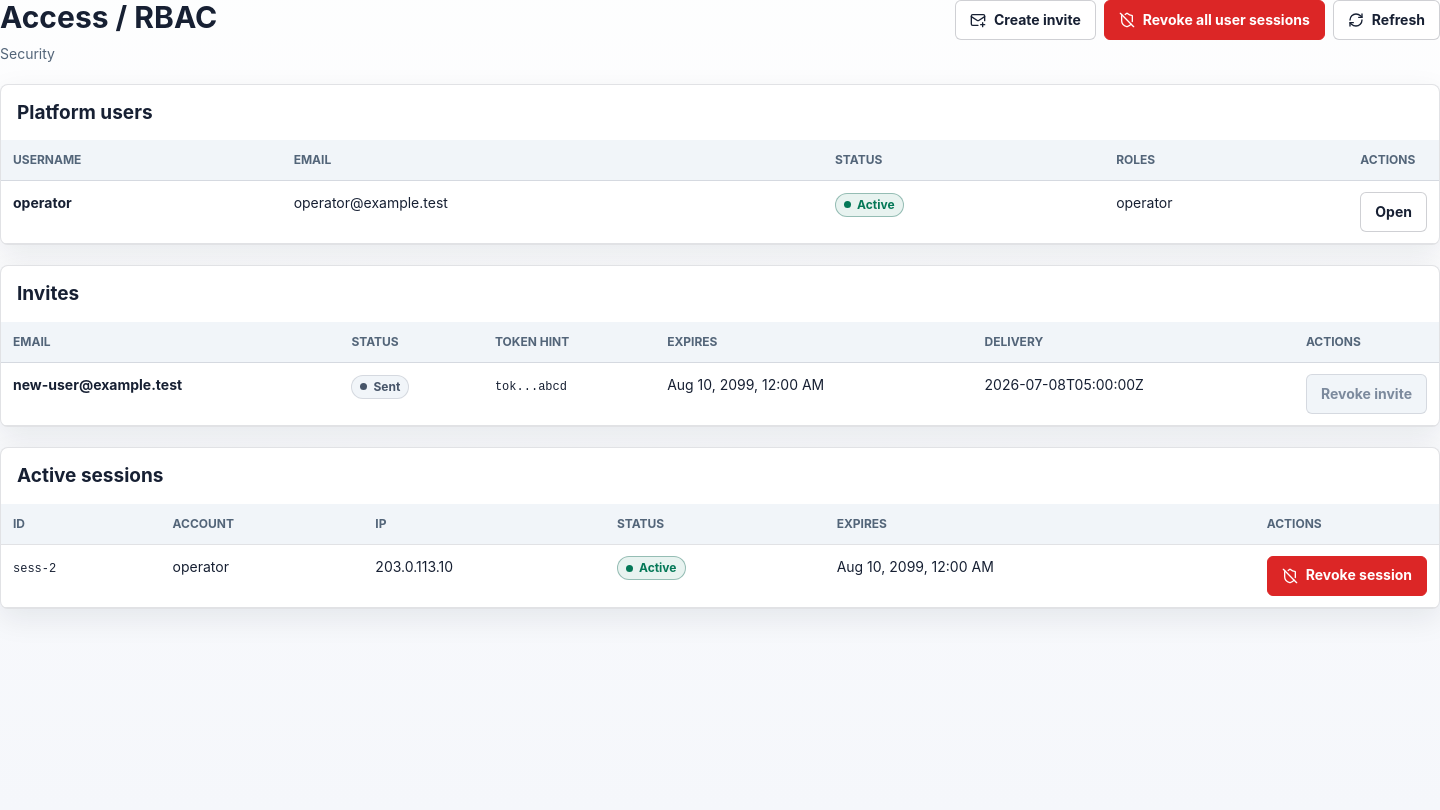
Platform settings, mail and access pages › requires confirmation before revoking sessions
Expected: the text "203.0.113.10" is shown, [363, 544, 605, 607]
What coordinates should you click on to do the following:
click the button "Revoke session"
I would click on:
 (1347, 576)
Its box is [1267, 556, 1427, 596].
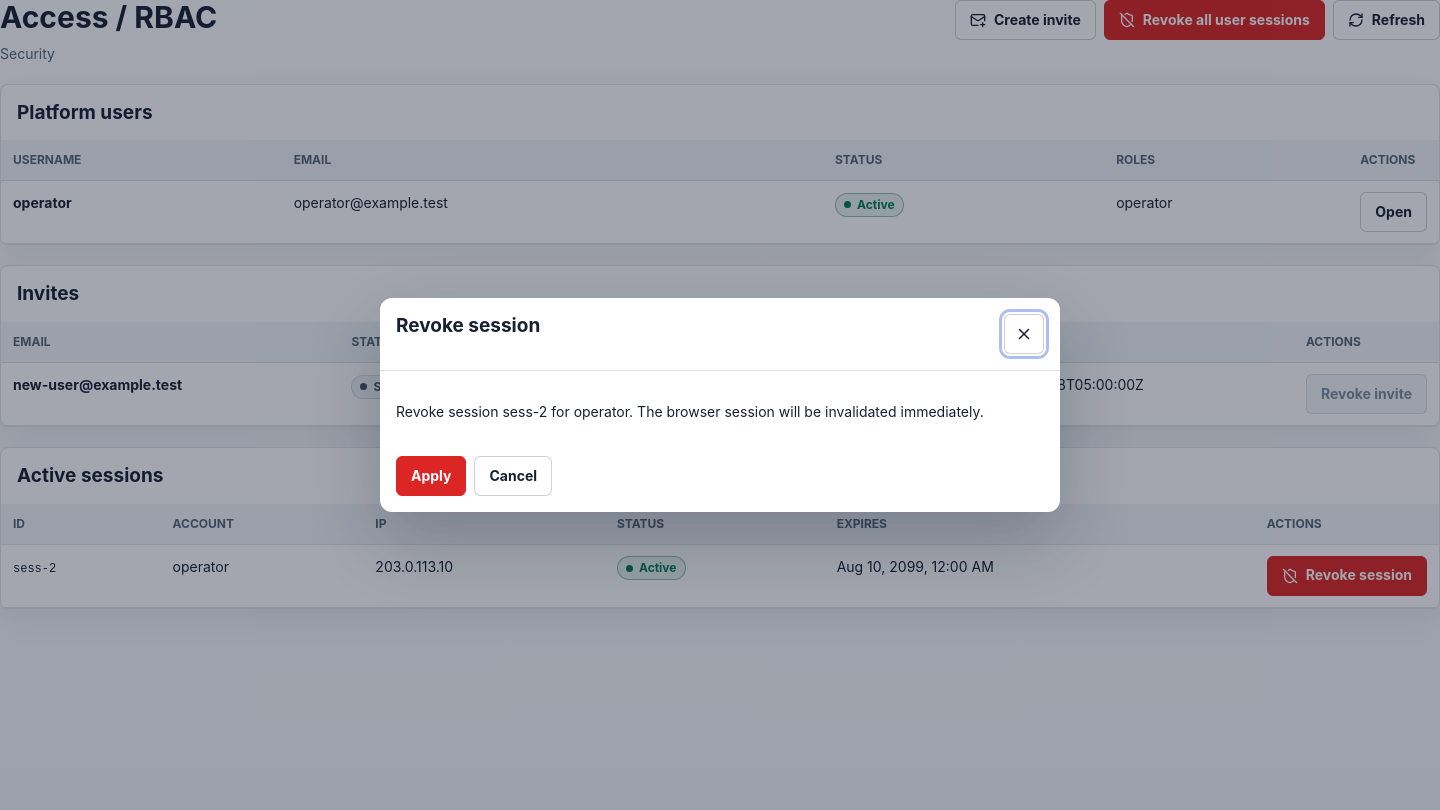
What coordinates should you click on to do the following:
click the button "Apply"
I would click on:
 (431, 476)
Its box is [396, 456, 466, 496].
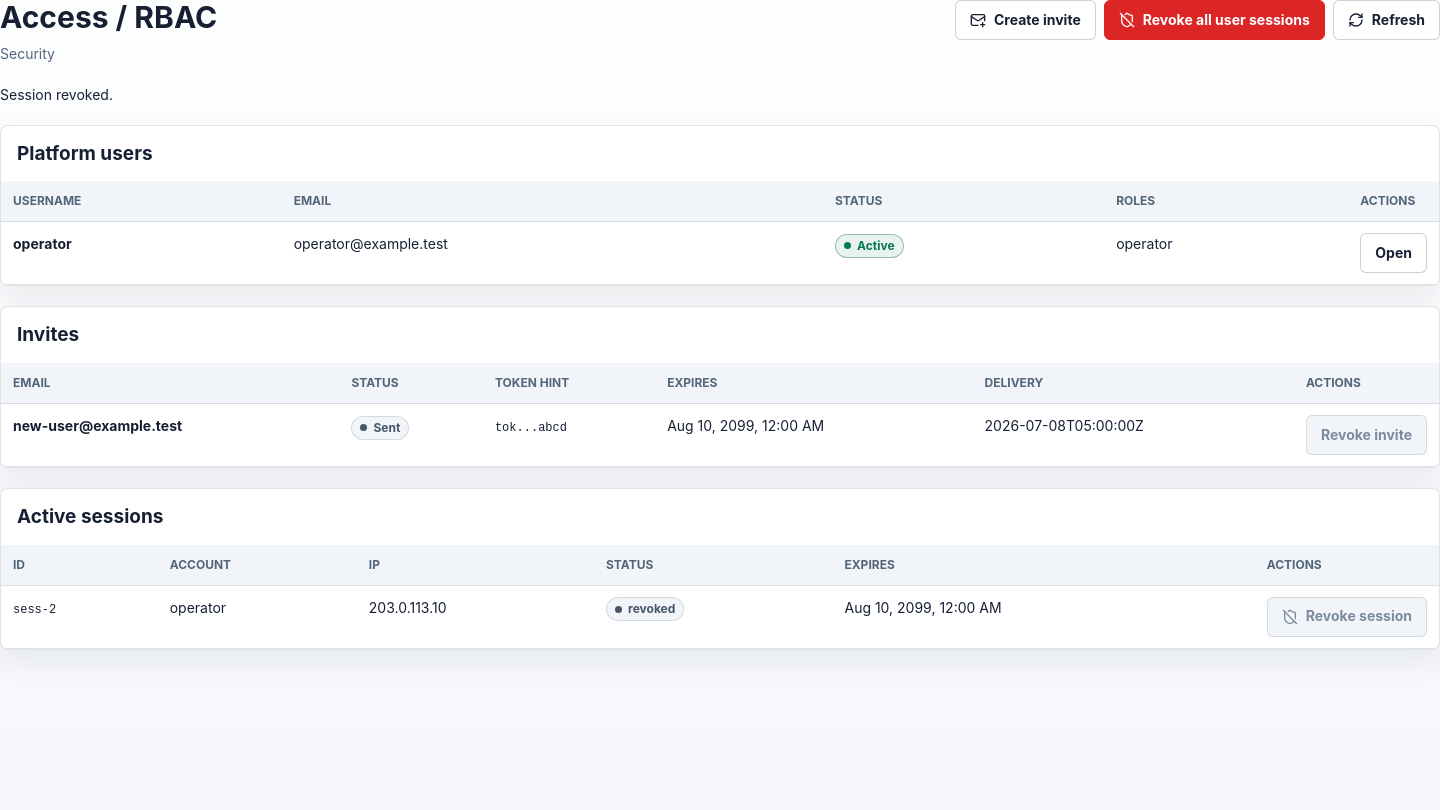
Expected: the text "Session revoked." is shown, [0, 86, 113, 102]
